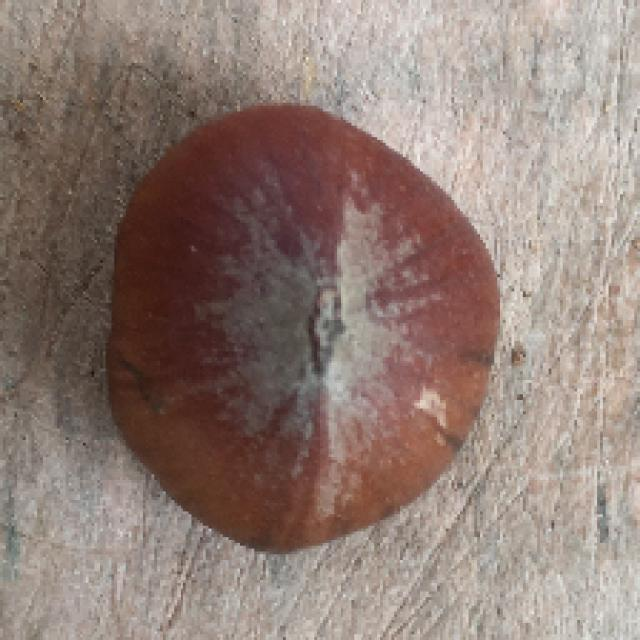qualityHazelnut: (114, 101, 509, 554)
